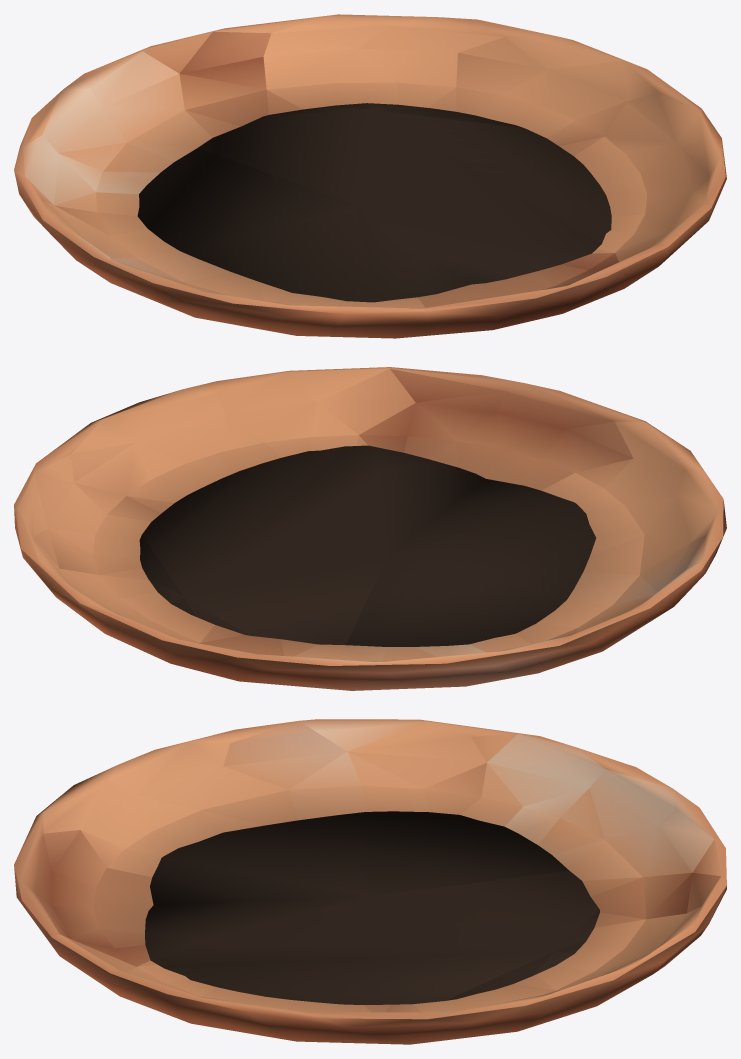
Rendered from canopy_saucer_lod2.glb.
The picture shows the model from 3 angles, top to bottom: view 1: azimuth 30°, elevation 25°; view 2: azimuth 150°, elevation 25°; view 3: azimuth 270°, elevation 25°; orthographic projection.
Visible parts, largest first — view 1: canopy_saucer.001; view 2: canopy_saucer.001; view 3: canopy_saucer.001.
Boxes of the visible parts, box(x1,y1,x2,y2) form: canopy_saucer.001: box(14, 14, 726, 338); canopy_saucer.001: box(14, 367, 726, 690); canopy_saucer.001: box(14, 719, 726, 1044).
Size of the model in its own units: 9.84 by 1 by 9.86.
